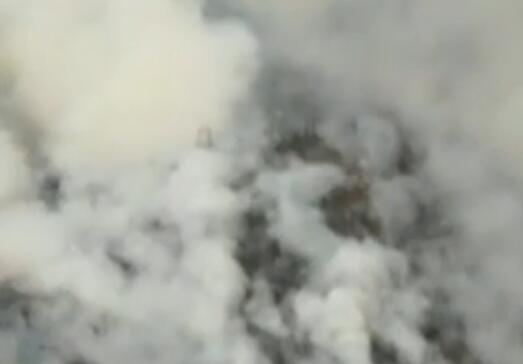smoke: (0, 0, 522, 361)
